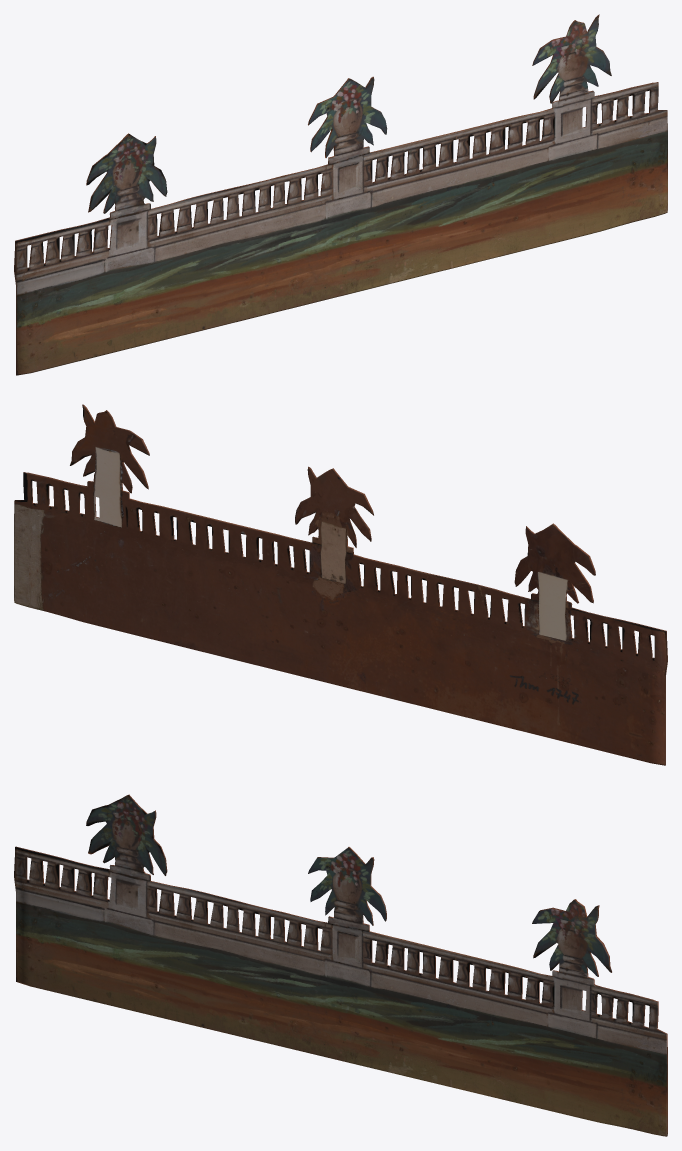
The model's file is X1_Teil3.fbx.
The picture shows the model from 3 angles, top to bottom: view 1: azimuth 30°, elevation 25°; view 2: azimuth 150°, elevation 25°; view 3: azimuth 330°, elevation 25°; orthographic projection.
Visible parts, largest first — view 1: X1_1; view 2: X1_1; view 3: X1_1.
Boxes of the visible parts, <box> form: X1_1: <box>14,14,667,375</box>; X1_1: <box>14,404,667,765</box>; X1_1: <box>14,794,667,1136</box>.
Size of the model in its own units: 97.72 by 31.44 by 0.1824.
